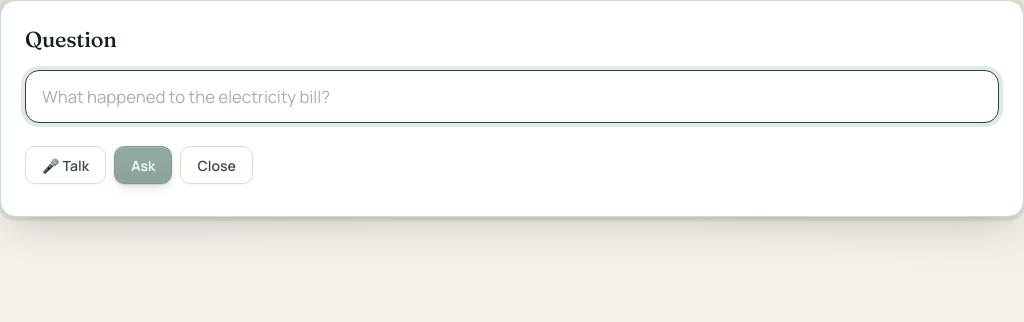
Import from inbox command › shows the reason when the import fails
In the field labelled "Question": (512, 97) [25,70,999,123], type "check my email for new bills"
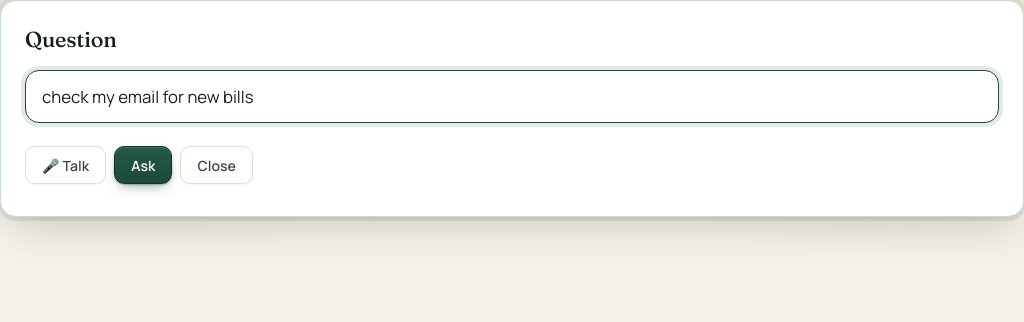
Click the button "Ask": click(143, 165) [114,146,172,184]
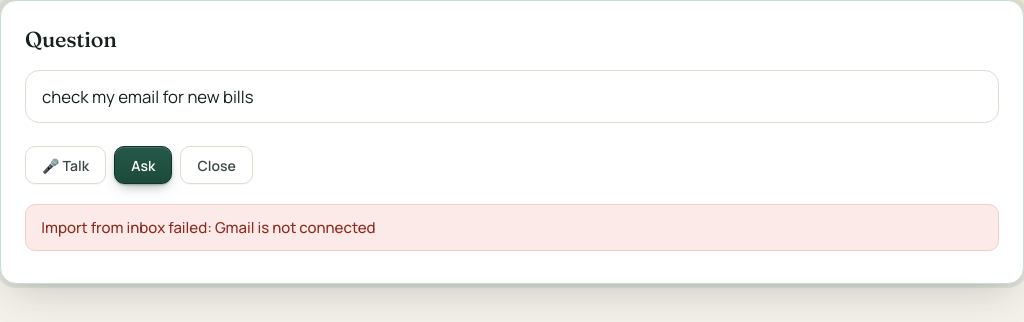
Now the message reads "Import from inbox failed: Gmail is not connected", box [41,217,376,238]
